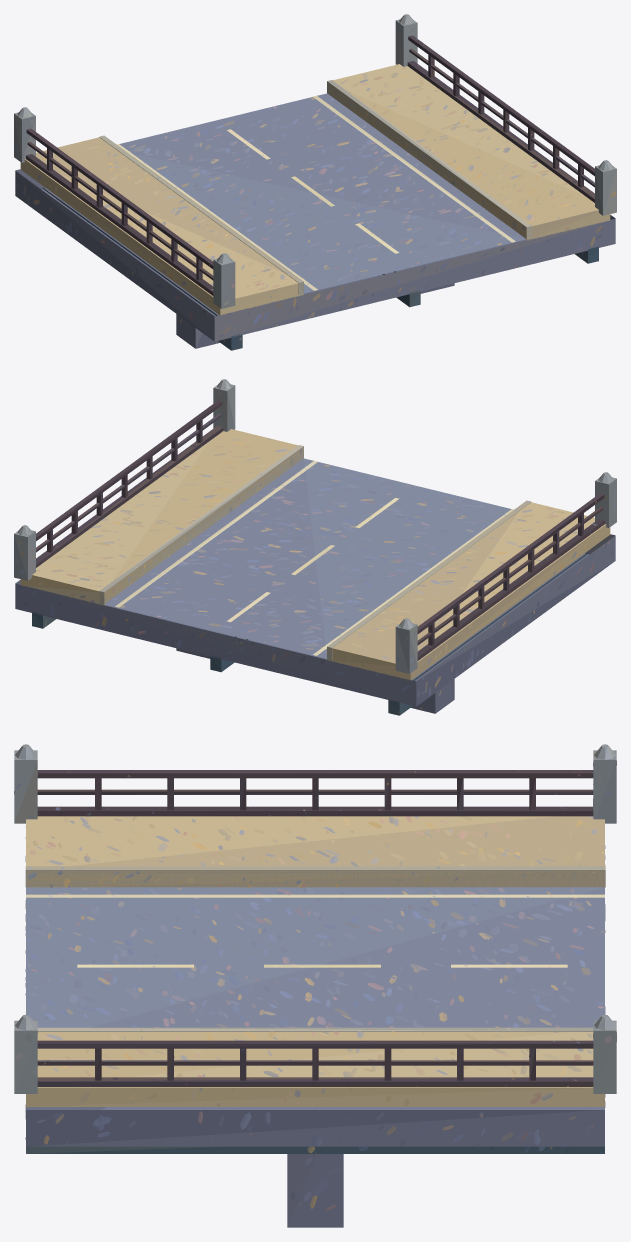
Rendered from HK_Kyobashi.glb.
The picture shows the model from 3 angles, top to bottom: view 1: azimuth 30°, elevation 25°; view 2: azimuth 150°, elevation 25°; view 3: azimuth 270°, elevation 25°; orthographic projection. The views are drawn at different scales.
Parts seen in each view (by area): view 1: HK_Kyobashi; view 2: HK_Kyobashi; view 3: HK_Kyobashi.
Boxes of the visible parts, left/top/right/bottom form: HK_Kyobashi: left=14, top=14, right=616, bottom=350; HK_Kyobashi: left=14, top=379, right=616, bottom=715; HK_Kyobashi: left=14, top=744, right=616, bottom=1227.
Bounding box in the file's own units: 14.41 × 6.02 × 12.91.
